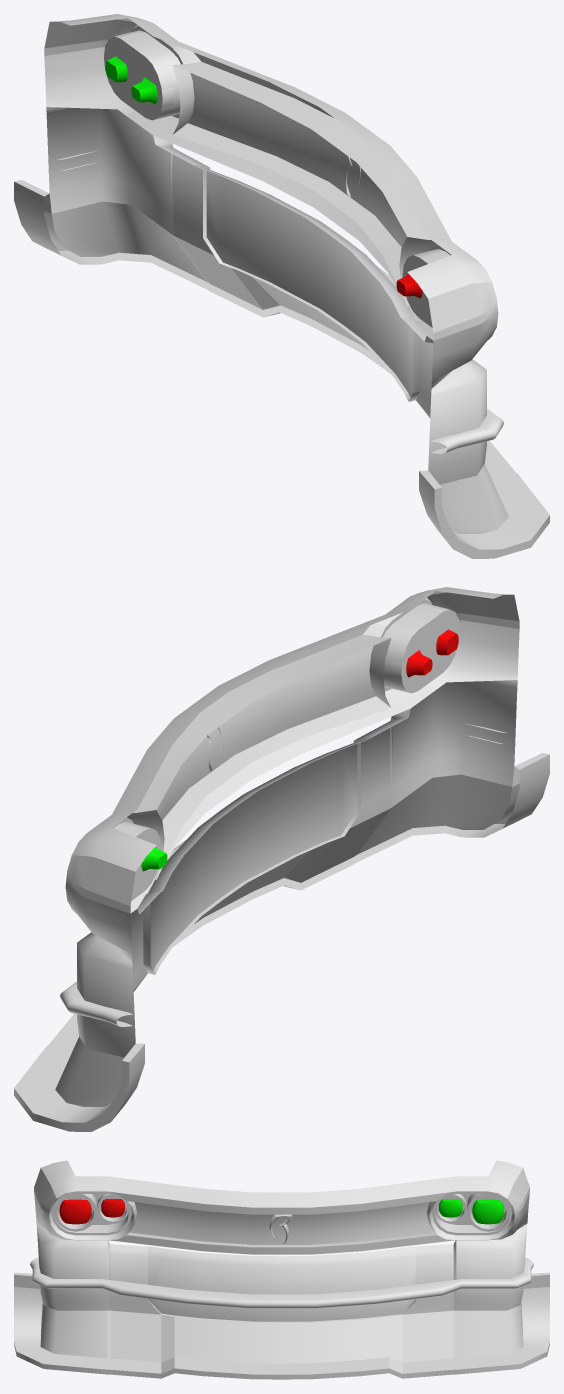
File: SKEL_FrontBumper_Var02.fbx
The picture shows the model from 3 angles, top to bottom: view 1: azimuth 30°, elevation 25°; view 2: azimuth 150°, elevation 25°; view 3: azimuth 270°, elevation 25°; orthographic projection. The views are drawn at different scales.
Parts seen in each view (by area): view 1: Front_Bumper_Lower, Front_Bumper_Upper, GridVent, Headlights_Bulb, ProtectionBar; view 2: Front_Bumper_Lower, Front_Bumper_Upper, GridVent, Headlights_Bulb, ProtectionBar; view 3: Front_Bumper_Lower, GridVent, Front_Bumper_Upper, ProtectionBar, Headlights_Bulb, Front_Bumper_Upper.002.
Part boxes in pixels (bbox=[...]): Front_Bumper_Lower: bbox=[14, 107, 549, 558]; Front_Bumper_Upper: bbox=[44, 14, 498, 388]; GridVent: bbox=[188, 73, 415, 397]; Headlights_Bulb: bbox=[105, 56, 422, 298]; ProtectionBar: bbox=[48, 150, 503, 453]; Front_Bumper_Lower: bbox=[14, 680, 549, 1131]; Front_Bumper_Upper: bbox=[65, 587, 519, 961]; GridVent: bbox=[148, 646, 375, 970]; Headlights_Bulb: bbox=[141, 629, 458, 871]; ProtectionBar: bbox=[60, 723, 515, 1026]; Front_Bumper_Lower: bbox=[14, 1224, 549, 1379]; GridVent: bbox=[129, 1202, 434, 1321]; Front_Bumper_Upper: bbox=[34, 1160, 529, 1254]; ProtectionBar: bbox=[30, 1258, 533, 1308]; Headlights_Bulb: bbox=[59, 1199, 504, 1224]; Front_Bumper_Upper.002: bbox=[54, 1194, 509, 1231].
Size of the model in its own units: 53.81 by 70 by 200.
